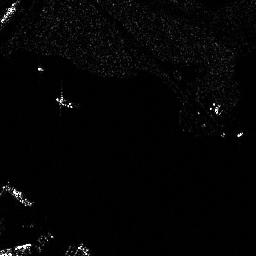ship: (1, 185, 35, 206), (1, 1, 20, 24)
